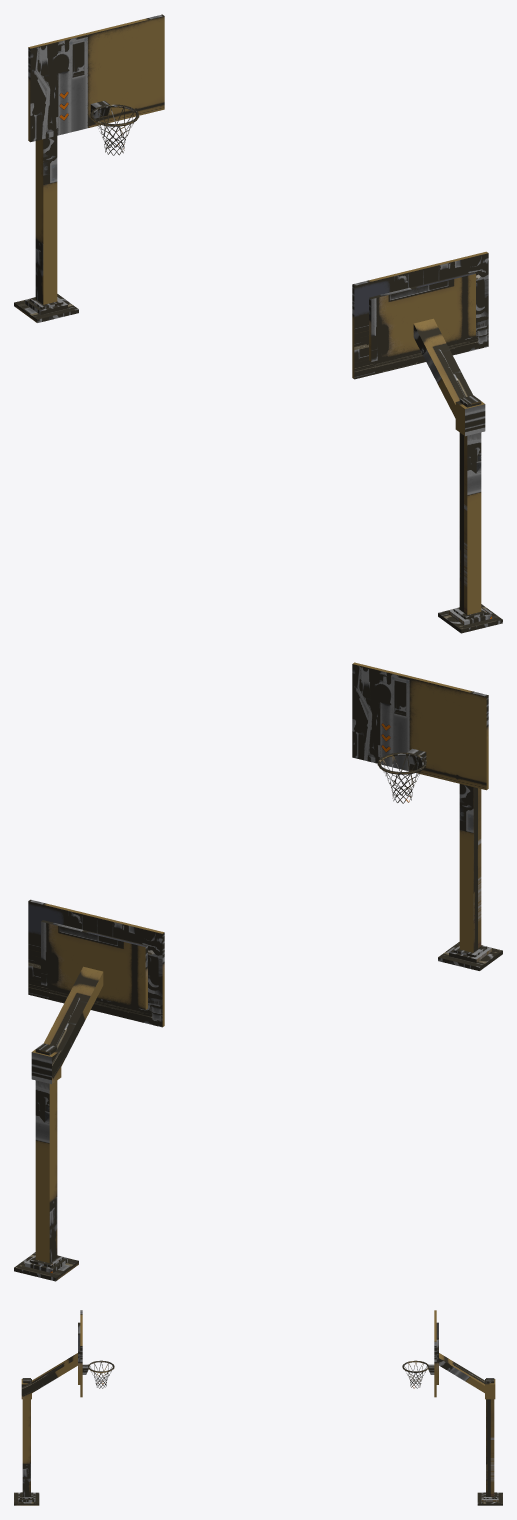
Rendered from basket ball court.fbx.
3 renders of one model, top to bottom at view 1: azimuth 30°, elevation 25°; view 2: azimuth 150°, elevation 25°; view 3: azimuth 270°, elevation 25°, orthographic. The views are drawn at different scales.
Visible parts, largest first — view 1: Basketball Hoop Panel.001, Basketball Hoop Panel; view 2: Basketball Hoop Panel, Basketball Hoop Panel.001; view 3: Basketball Hoop Panel, Basketball Hoop Panel.001.
Part boxes in pixels (x1,y1,x2,y2): Basketball Hoop Panel.001: (352,251,502,633); Basketball Hoop Panel: (14,14,164,322); Basketball Hoop Panel: (14,899,164,1281); Basketball Hoop Panel.001: (352,662,502,970); Basketball Hoop Panel: (402,1310,502,1505); Basketball Hoop Panel.001: (14,1310,114,1505).
Bounding box in the file's own units: 183 × 410 × 1056.
